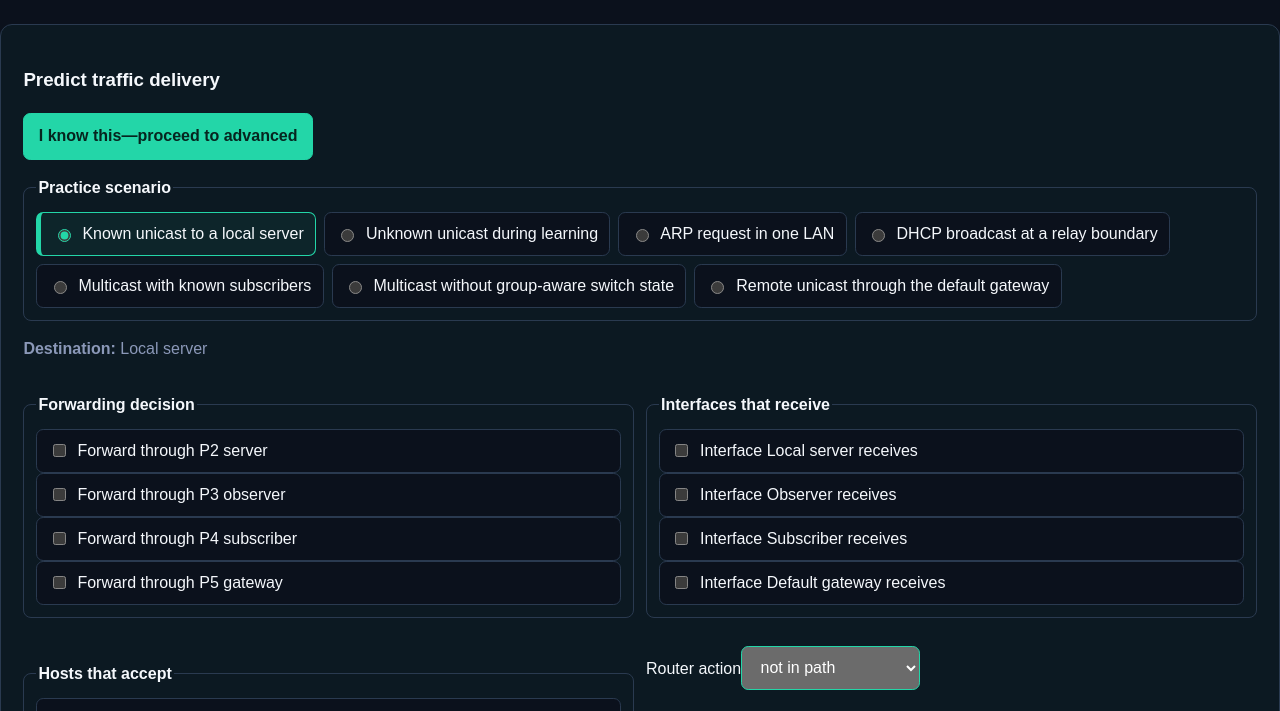
Test: DeliveryScopeLab › submits explicit predictions and explains all four distinctions
The width and height of the screenshot is (1280, 711).
Click the checkbox labelled "Forward through P2 server". click: (59, 451)
box: [53, 444, 66, 457]
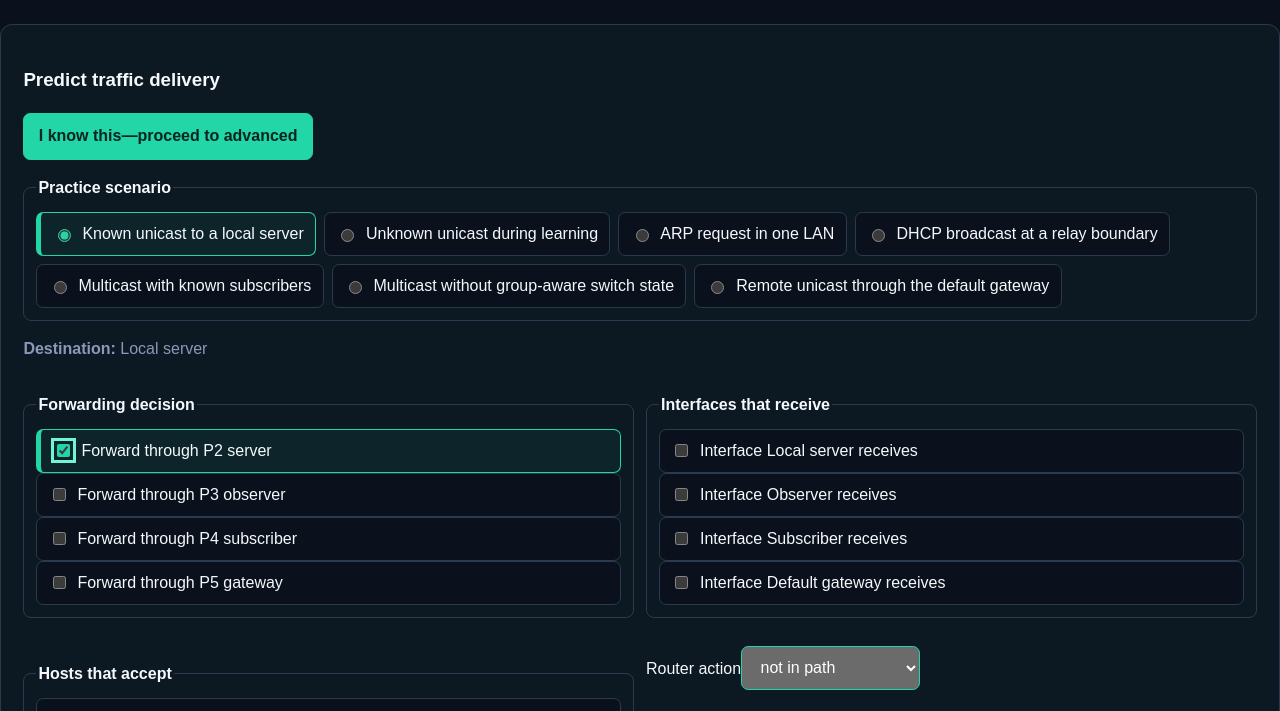
Click the checkbox labelled "Interface Local server receives". click: (682, 451)
box: [675, 444, 688, 457]
(page scrolled)
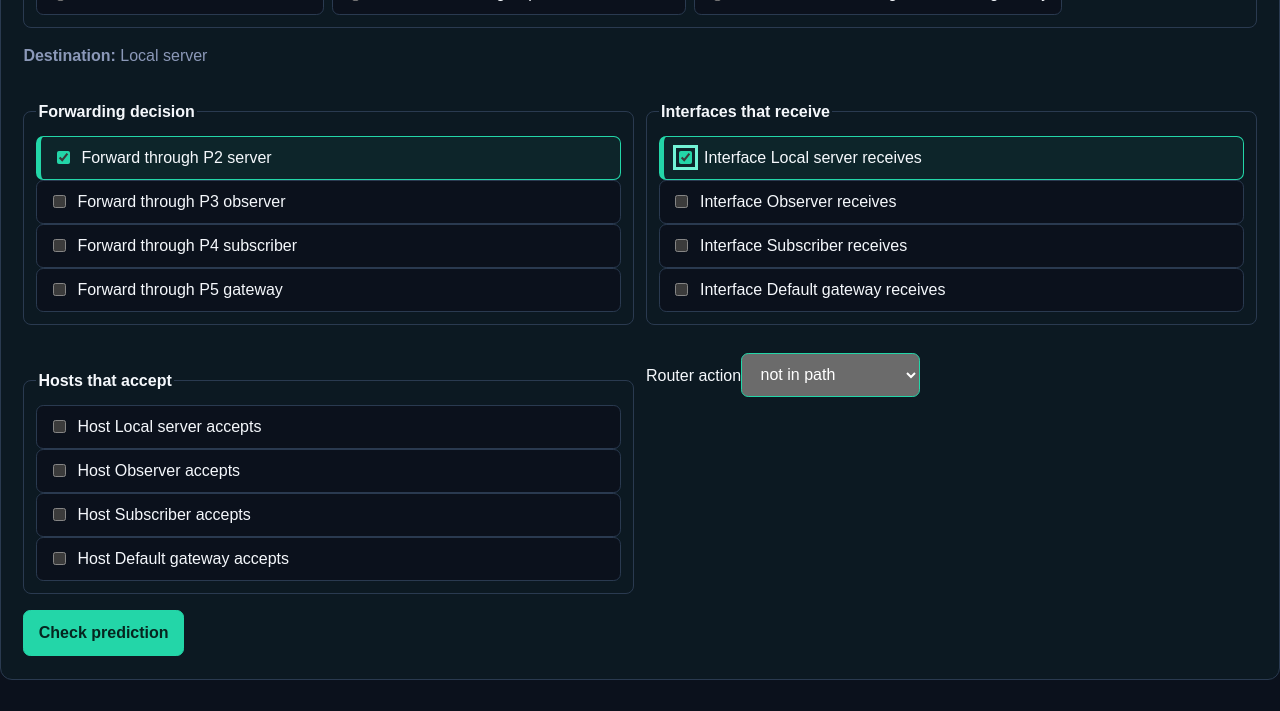
Click the checkbox labelled "Host Local server accepts". click: (59, 427)
box: [53, 420, 66, 433]
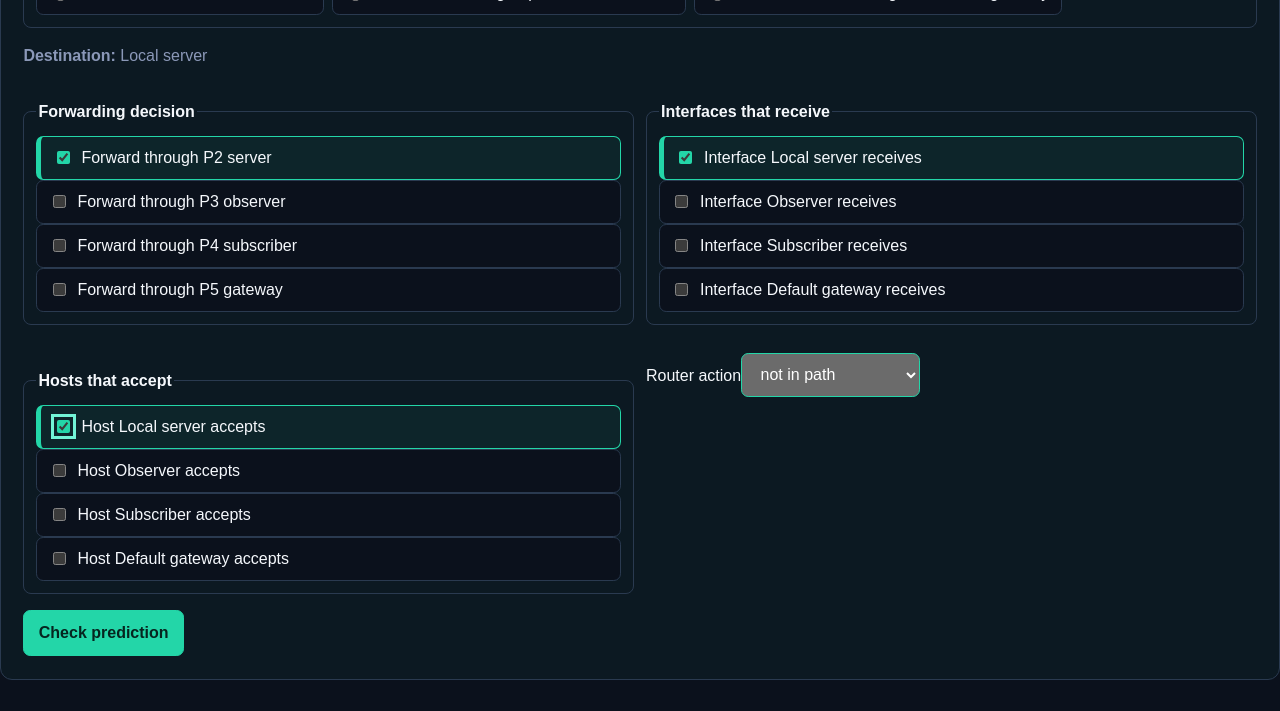
Select "not in path" in the dropdown labelled "Router action". click: (831, 375)
box: [741, 353, 920, 397]
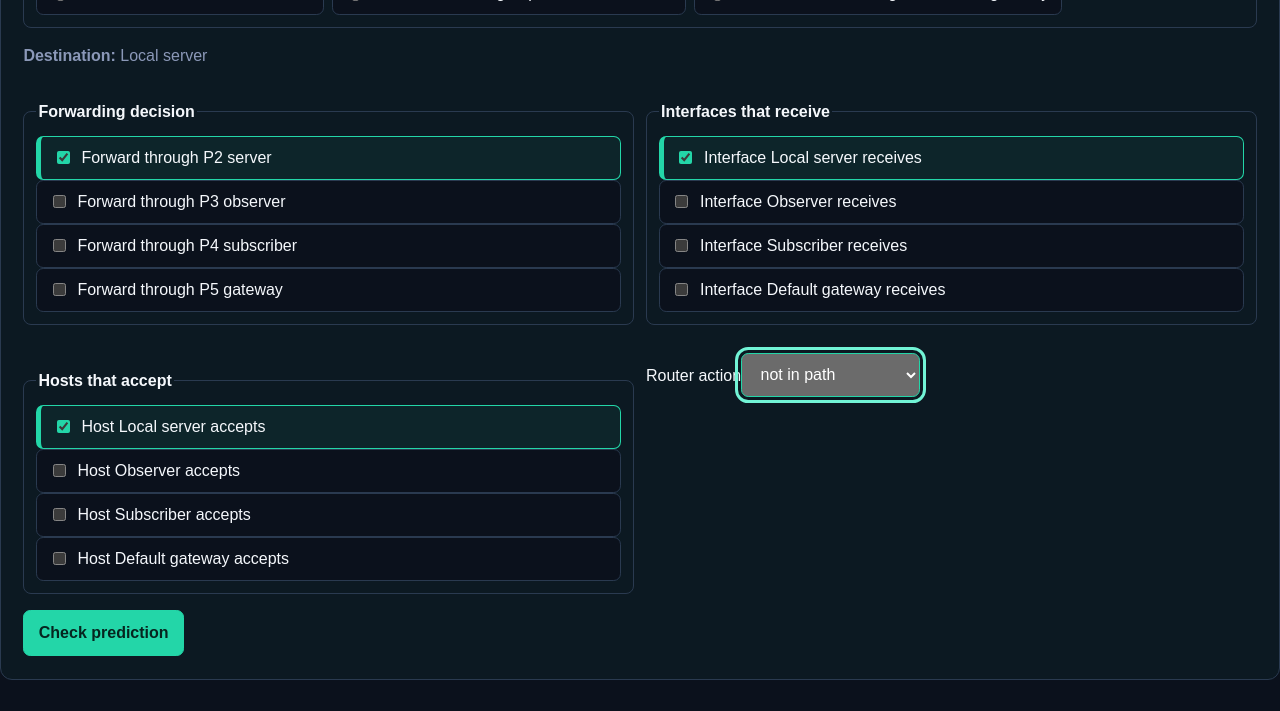
Click the button "Check prediction". click: (104, 633)
box: [23, 610, 184, 656]
(page scrolled)
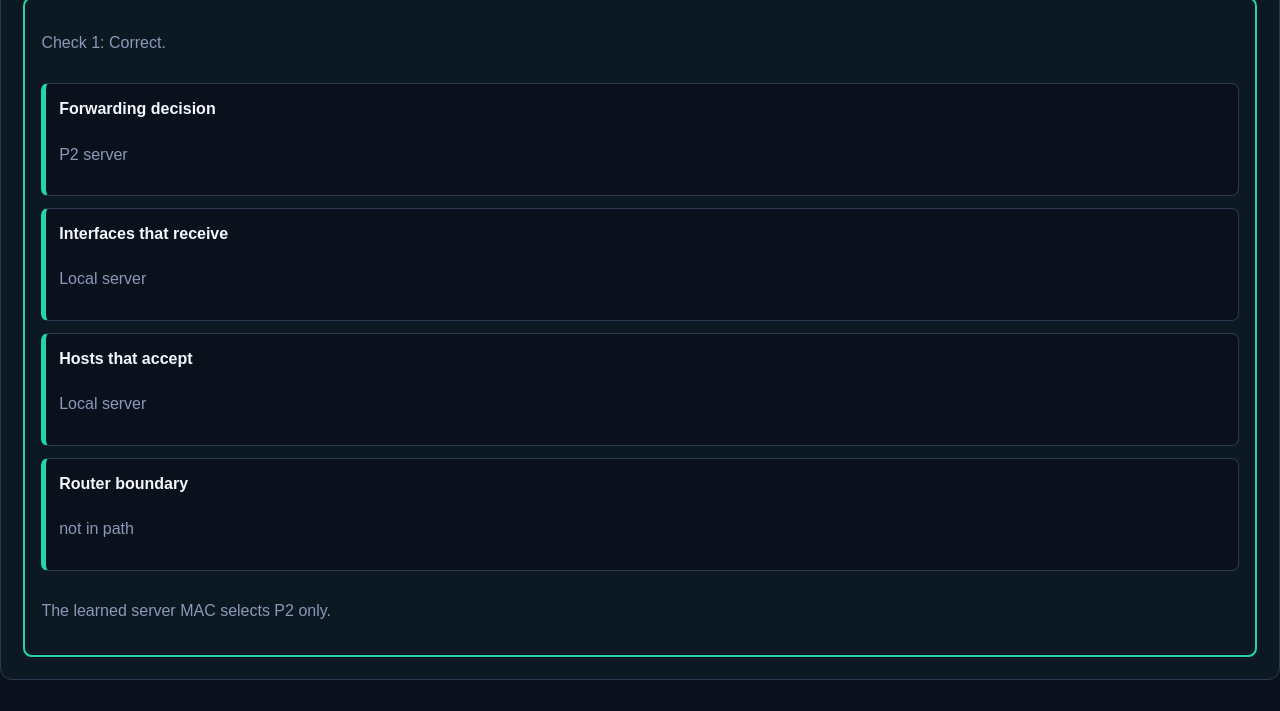
expect the text "Check 1: Correct." is shown: met, box [41, 34, 166, 52]
expect the heading "Forwarding decision" is shown: met, box [59, 100, 216, 117]
expect the heading "Interfaces that receive" is shown: met, box [59, 225, 228, 242]
